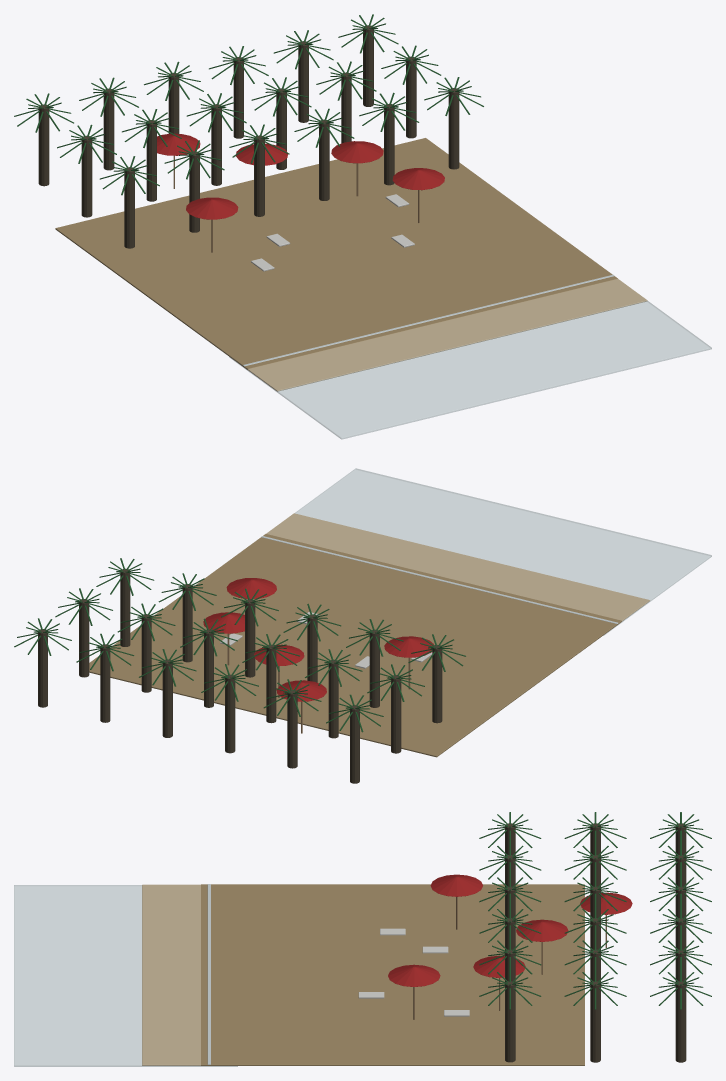
The model's file is BCH_Shore_BCH_v001.glb.
3 views of the same model, one above another, from view 1: azimuth 30°, elevation 25°; view 2: azimuth 150°, elevation 25°; view 3: azimuth 270°, elevation 25° (orthographic). The views are drawn at different scales.
Parts seen in each view (by area): view 1: BCH_Shore_BCH_v001; view 2: BCH_Shore_BCH_v001; view 3: BCH_Shore_BCH_v001.
Boxes of the visible parts, x1,y1,x2,y2 form: BCH_Shore_BCH_v001: (14, 14, 711, 439); BCH_Shore_BCH_v001: (14, 468, 711, 783); BCH_Shore_BCH_v001: (14, 812, 711, 1066).
Size of the model in its own units: 20.95 by 4.4 by 32.7.
